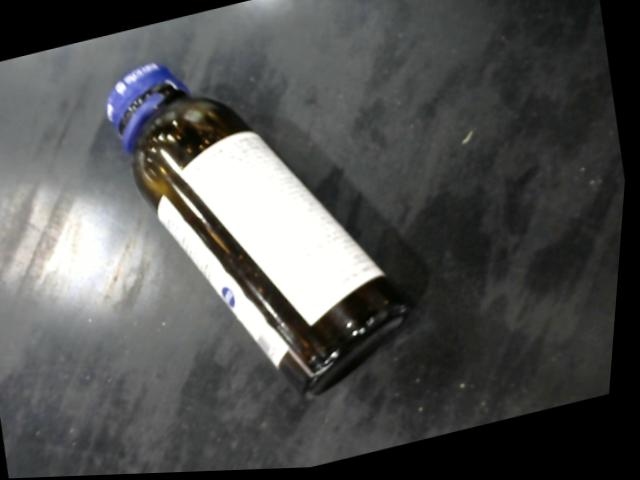glass: (105, 60, 414, 404)
